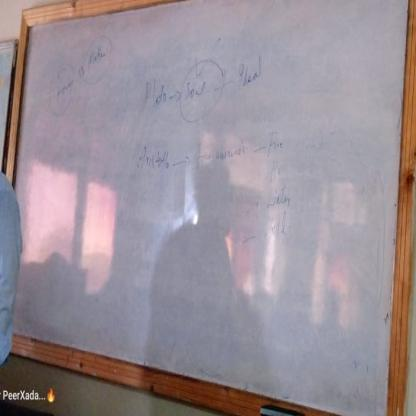Handwritten text: (132, 141, 172, 181), (237, 56, 267, 90), (52, 70, 75, 102), (266, 125, 288, 157), (183, 79, 209, 103), (268, 159, 287, 188)
